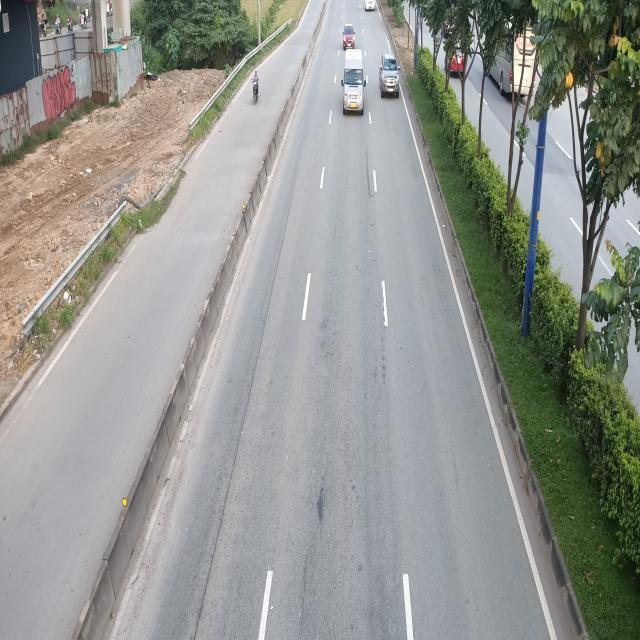car: (378, 53, 400, 98)
van: (342, 48, 368, 116)
